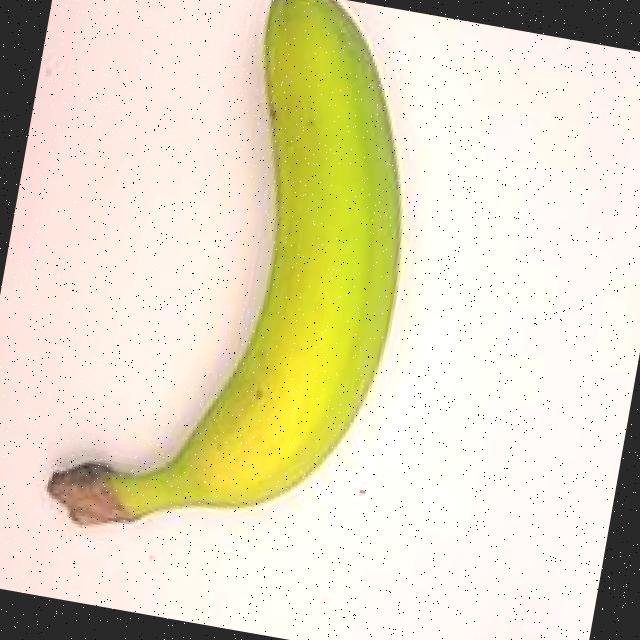Unripe: (16, 0, 486, 602)
